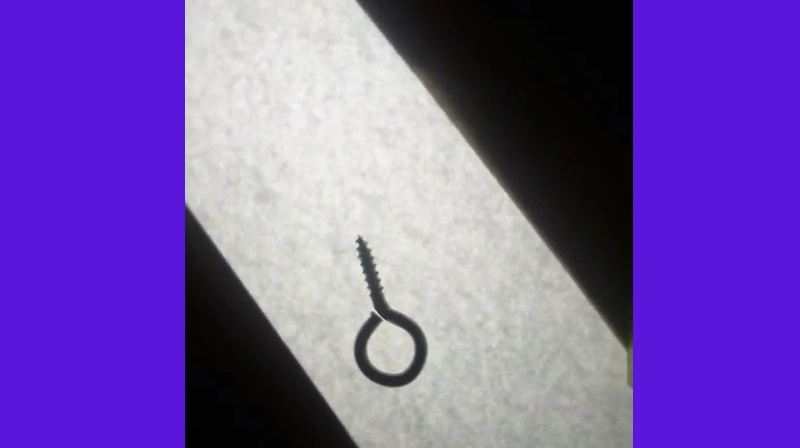O001: (351, 232, 431, 390)
